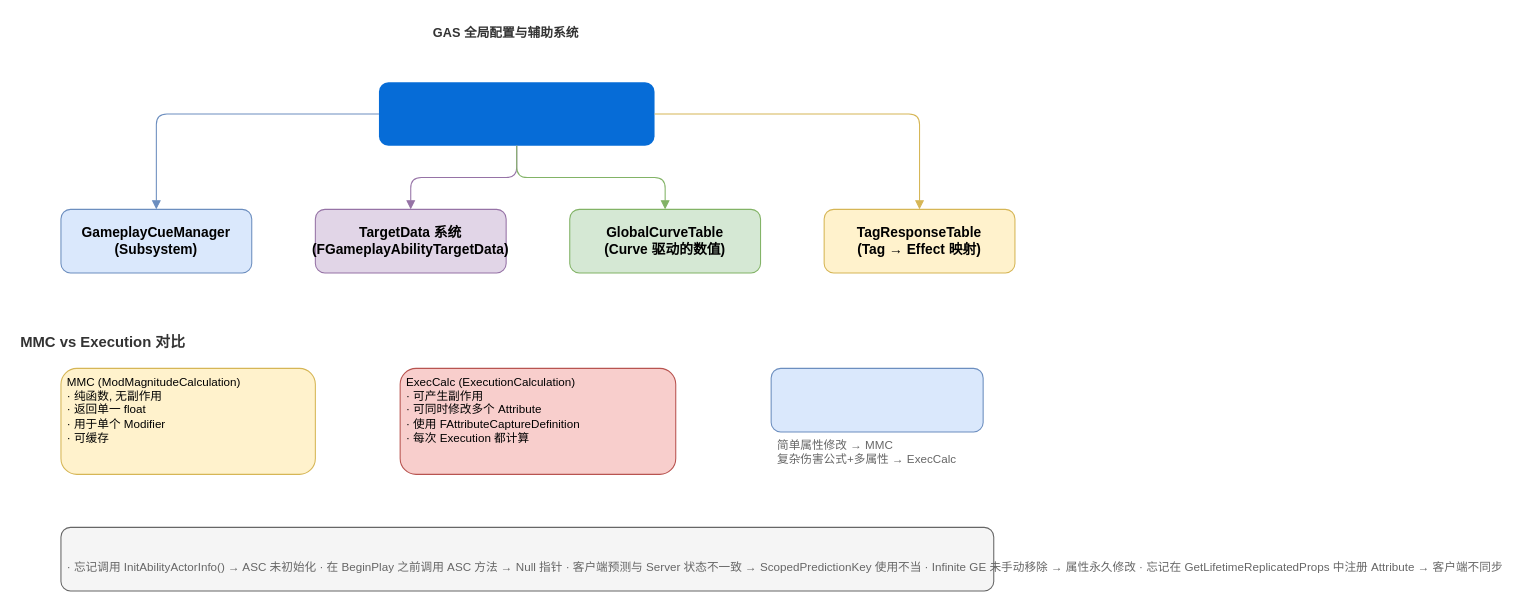
The diagram is 1521 pixels wide and 609 high, and some of its shapes have lost their labels. Each missing label, with the box of its shape:
UAbilitySystemGlobals: (378, 82, 654, 145)
常见陷阱: (60, 526, 994, 591)
选择原则: (770, 367, 983, 432)
